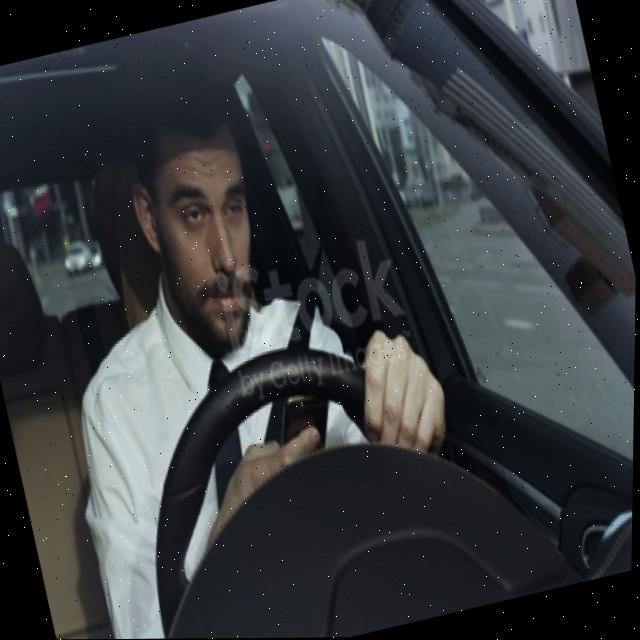PhoneCall: (261, 384, 348, 468)
